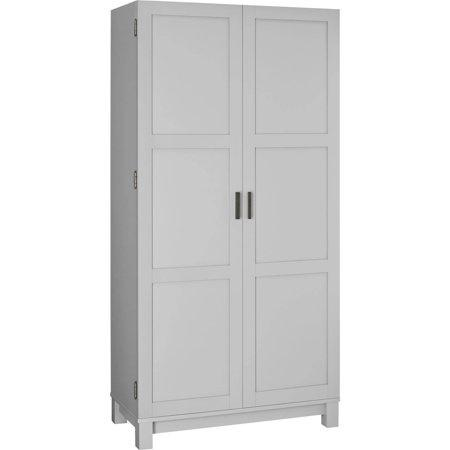cabinet_door: (138, 2, 243, 410), (244, 3, 341, 404)
handle: (234, 190, 243, 223), (246, 189, 255, 221)
